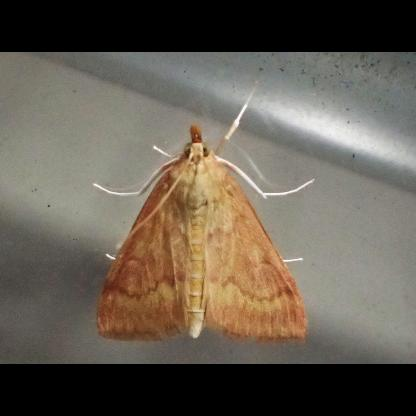Asian Corn Borer Moth: (89, 78, 319, 350)
